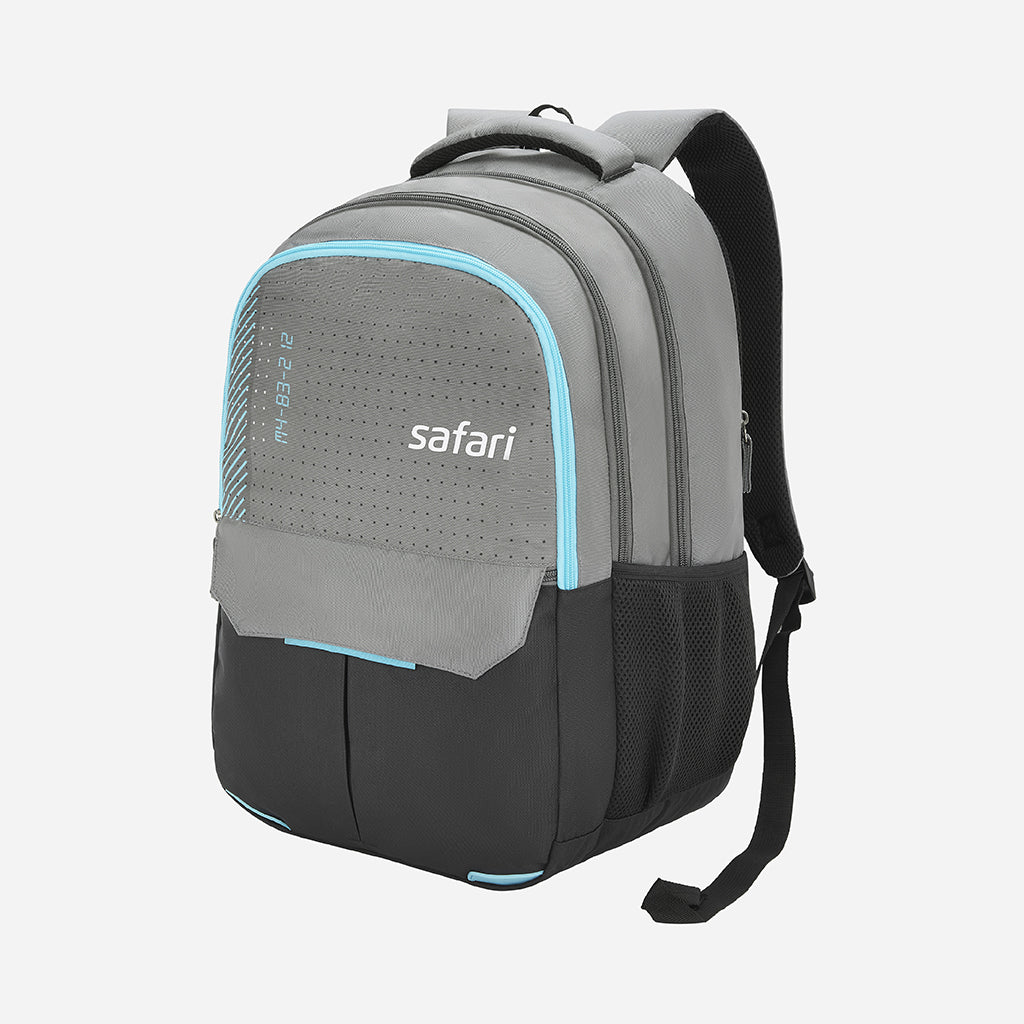backpack: (209, 102, 816, 923)
